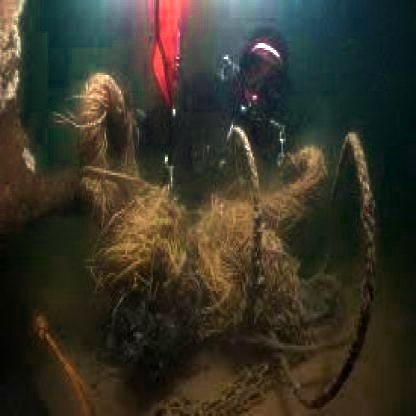net: (77, 75, 375, 407)
